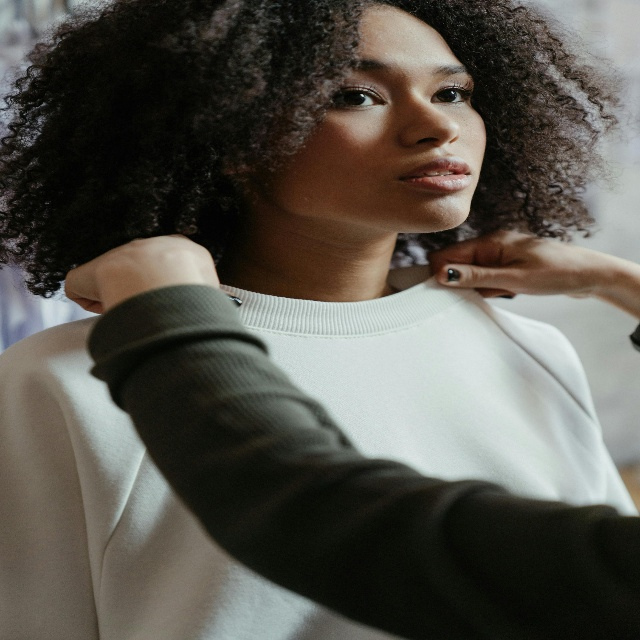Sin_guantes: (62, 232, 242, 316), (425, 228, 600, 298)
